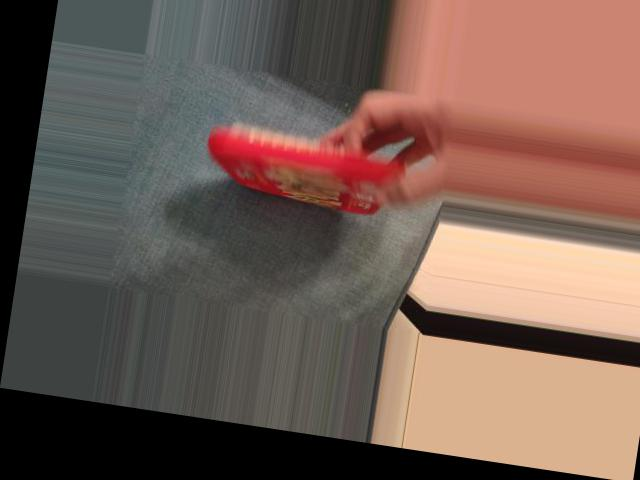cheese: (207, 123, 404, 212)
